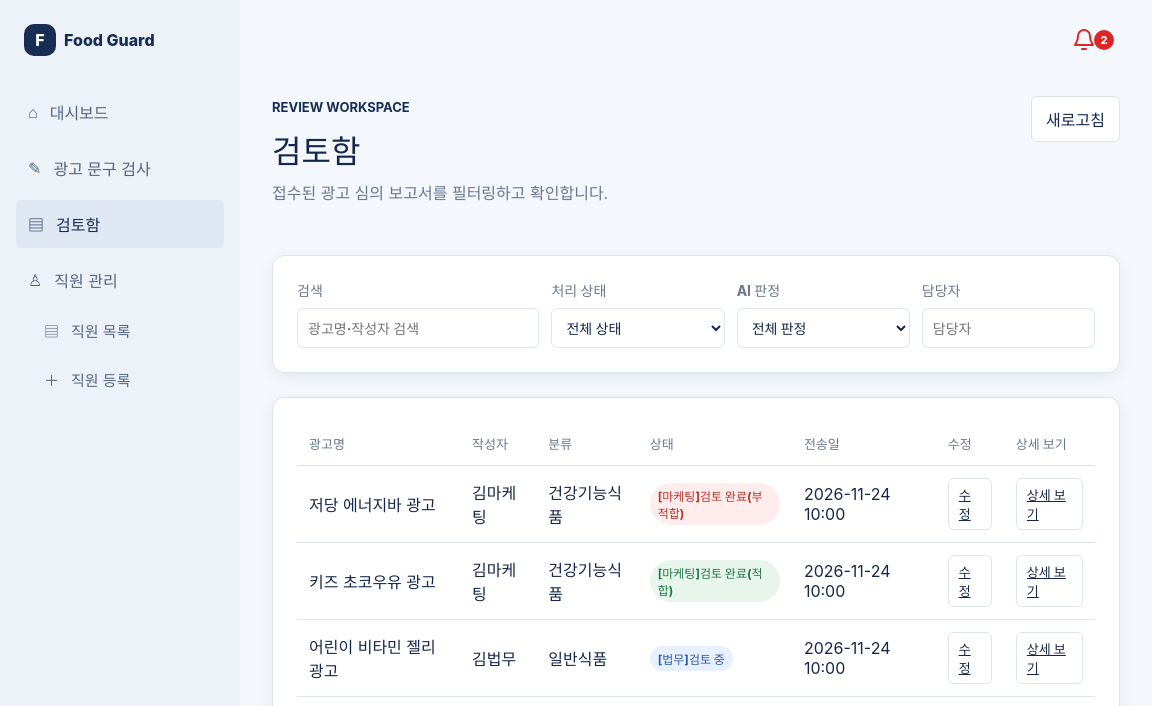
Scenario: App routes › keeps demo mode while opening a report detail
The image size is (1152, 706).
Step 1. Click the link "상세 보기" in the row of "저당 에너지바 광고" → (1049, 504), box [1016,478,1083,530]
(page scrolled)
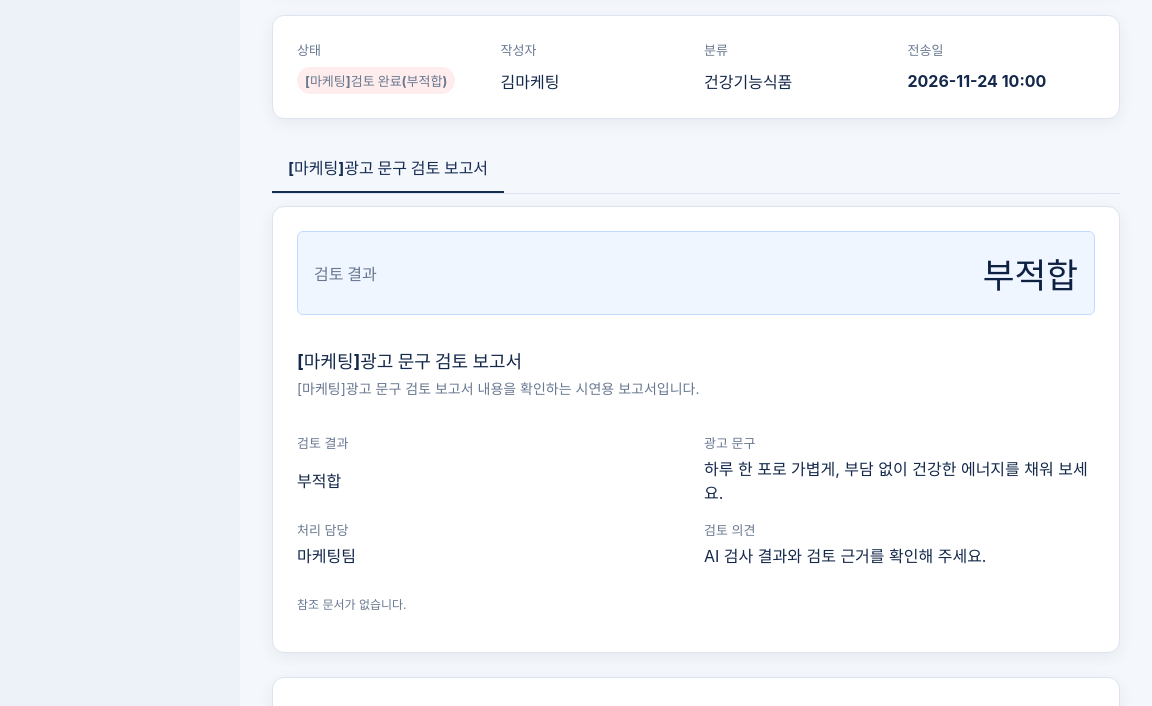
Expected: the heading "[마케팅]광고 문구 검토 보고서" is shown, [297,352,522,372]
